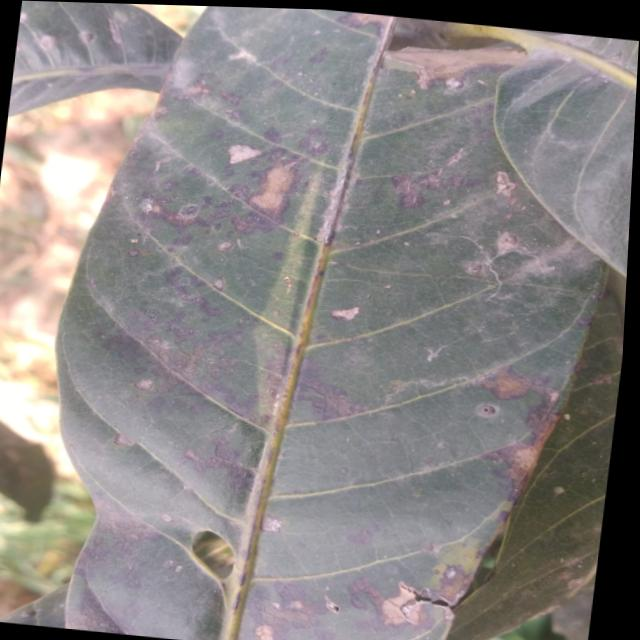Bacterial Cancer: (387, 586, 429, 624)
Powdery Mildew: (217, 141, 263, 172), (484, 228, 524, 261), (327, 299, 362, 325), (221, 46, 258, 66)
black die: (213, 199, 233, 212), (254, 216, 271, 230)
